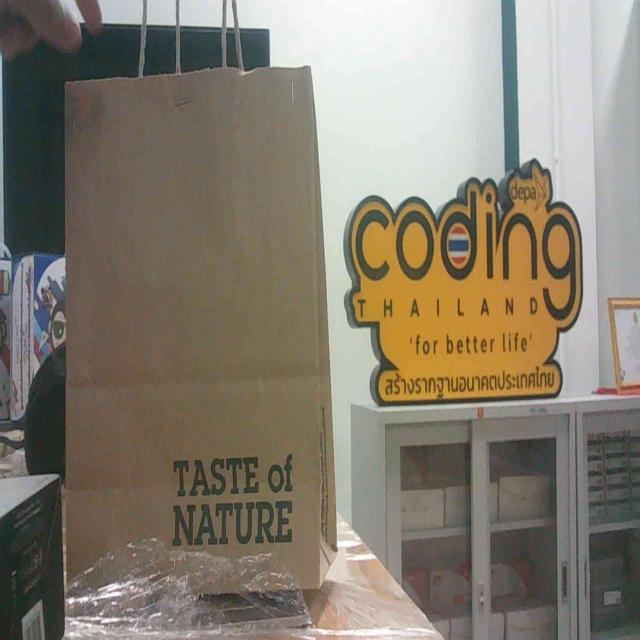bag: (66, 76, 353, 602)
